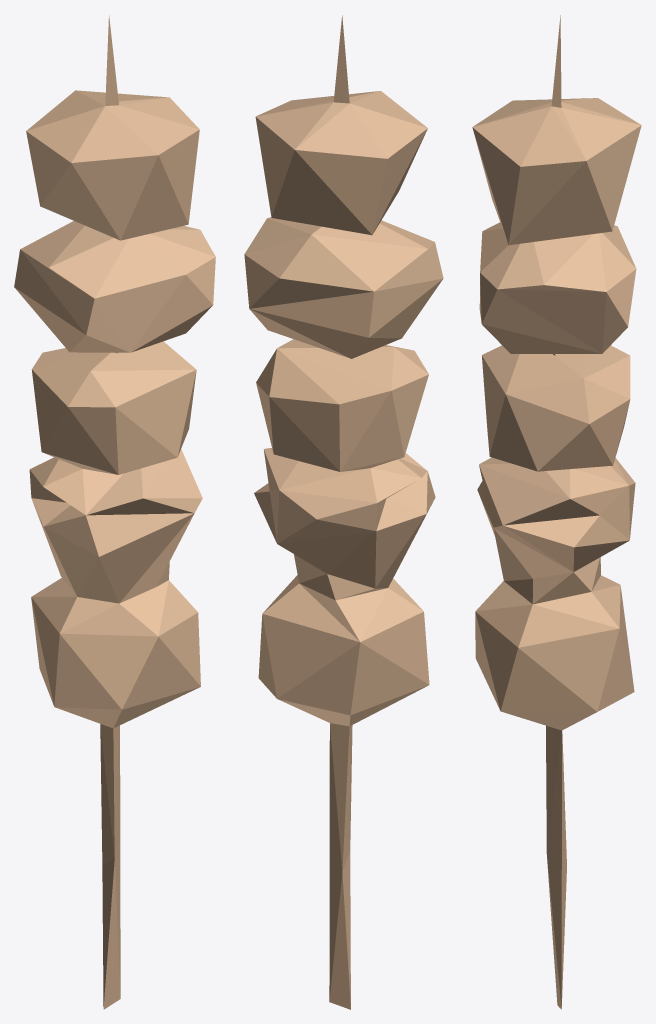
The picture shows the model from 3 angles, left to right: view 1: azimuth 30°, elevation 25°; view 2: azimuth 150°, elevation 25°; view 3: azimuth 270°, elevation 25°; orthographic projection.
Parts seen in each view (by area): view 1: mesh; view 2: mesh; view 3: mesh.
Boxes of the visible parts, box(x1,y1,x2,y2) form: mesh: box(14, 15, 215, 1009); mesh: box(244, 15, 443, 1009); mesh: box(472, 15, 641, 1009).
Bounding box in the file's own units: 0.083 × 0.4984 × 0.0769.
